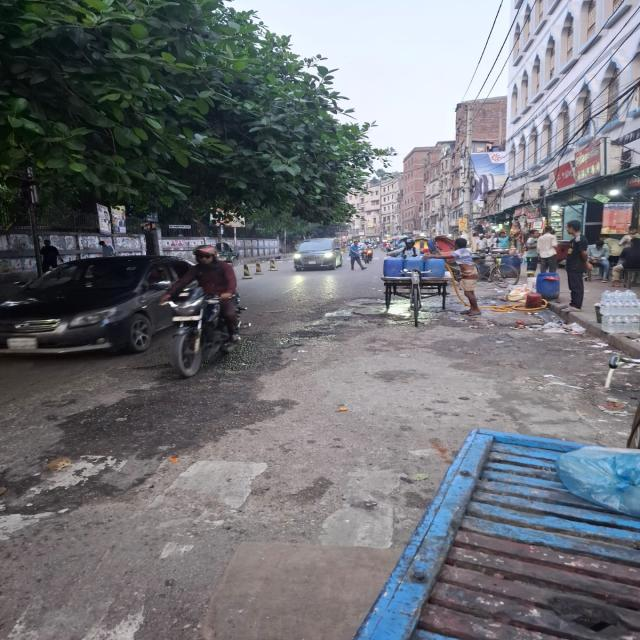person: (349, 240, 367, 270)
